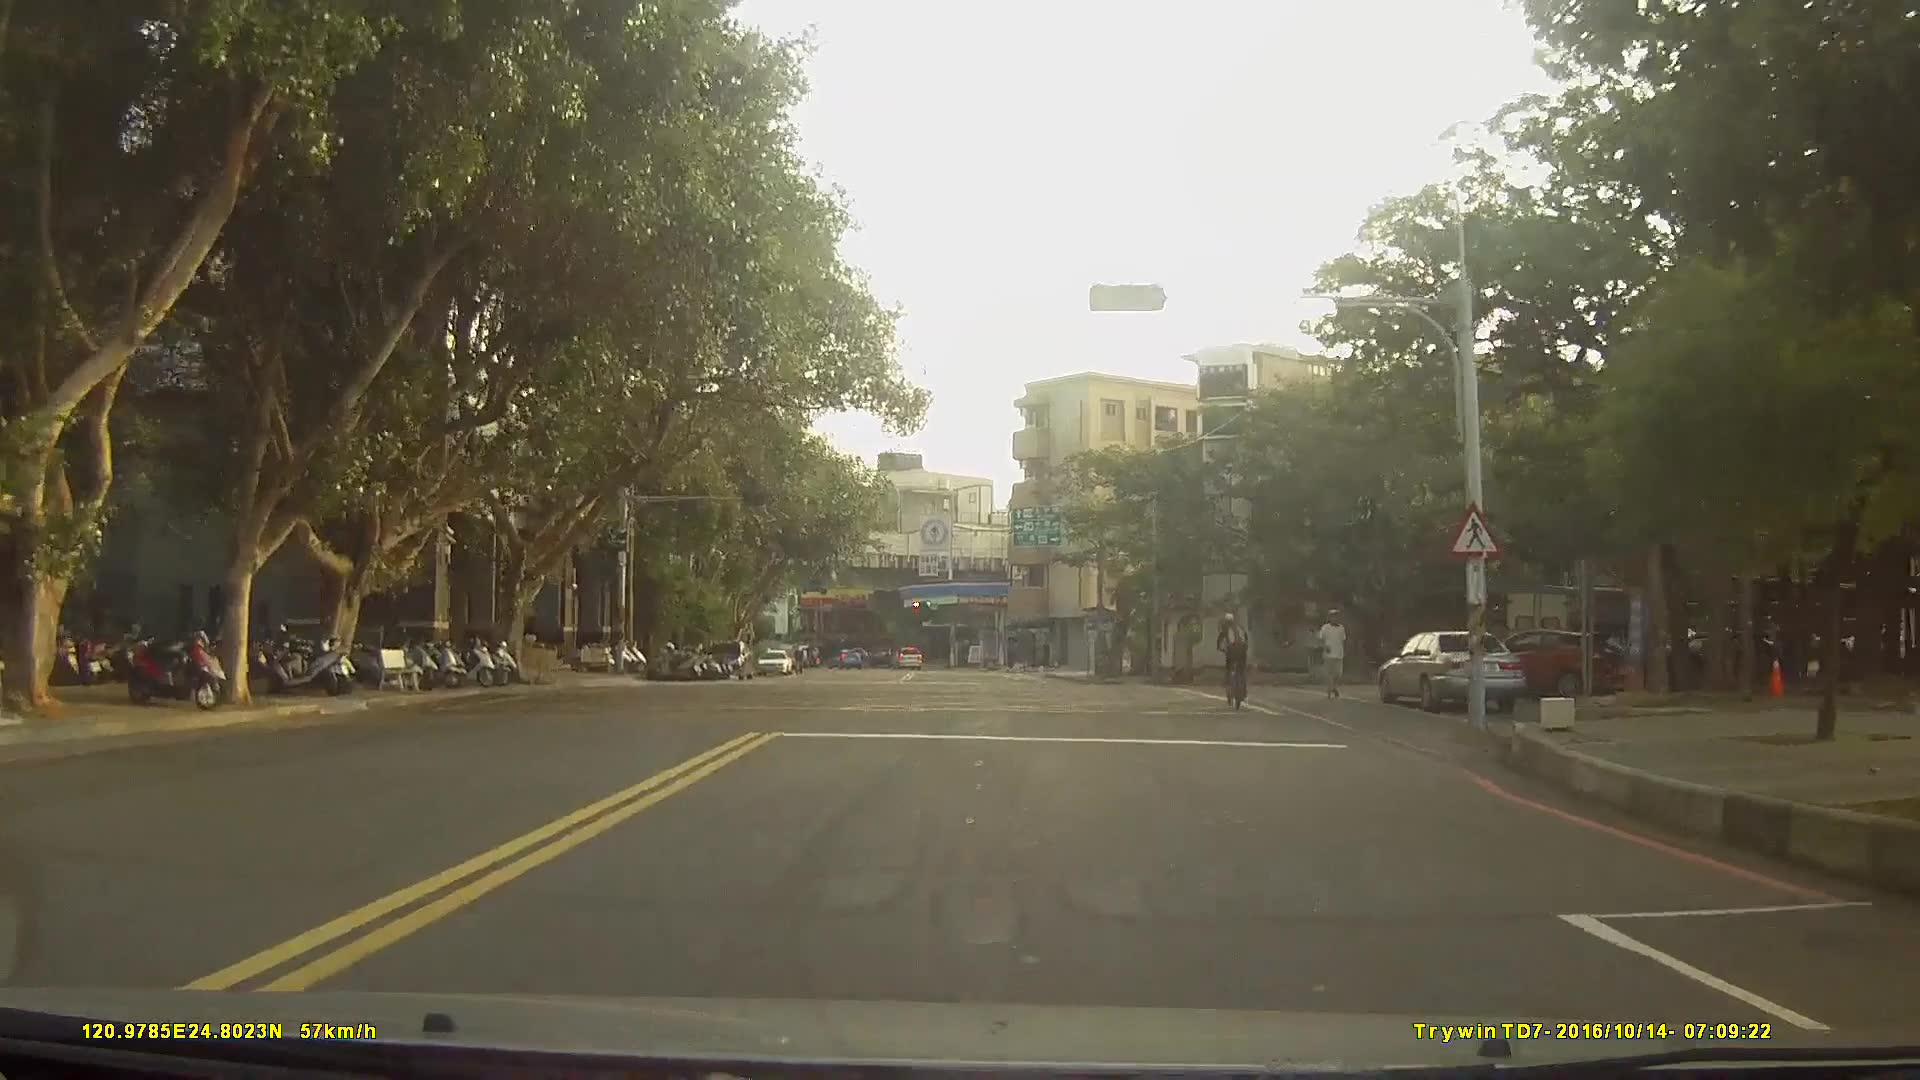pedestrian: (1316, 599, 1352, 705), (523, 610, 543, 646)
rider: (1212, 611, 1253, 708)
vehicle: (1380, 627, 1523, 712), (1463, 627, 1593, 698), (702, 637, 755, 678), (757, 646, 792, 677), (888, 643, 921, 668)
